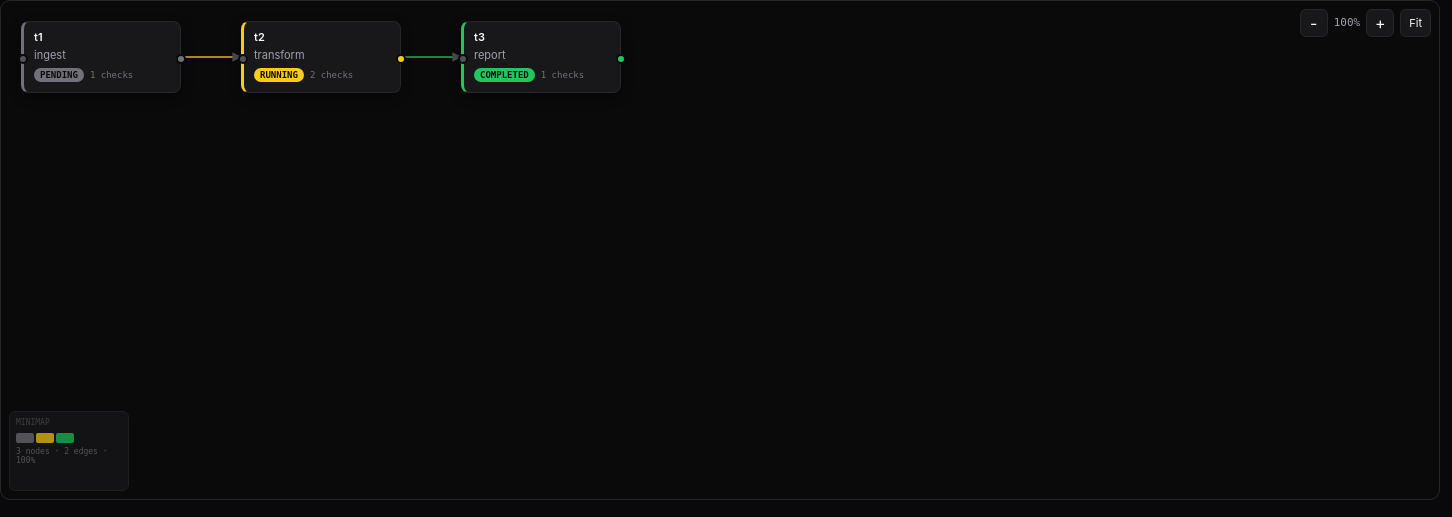
Test: FlowCanvas visual › has minimap zoom/pan controls
Expected: the text "MINIMAP" is shown, [16,418,50,427]
Expected: the button "Fit" is shown, [1400,9,1431,37]
Note: zoom interaction
What coordinates should you click on to do the following:
click the button "+"
I would click on:
 (1380, 23)
Its box is [1366,9,1394,37].
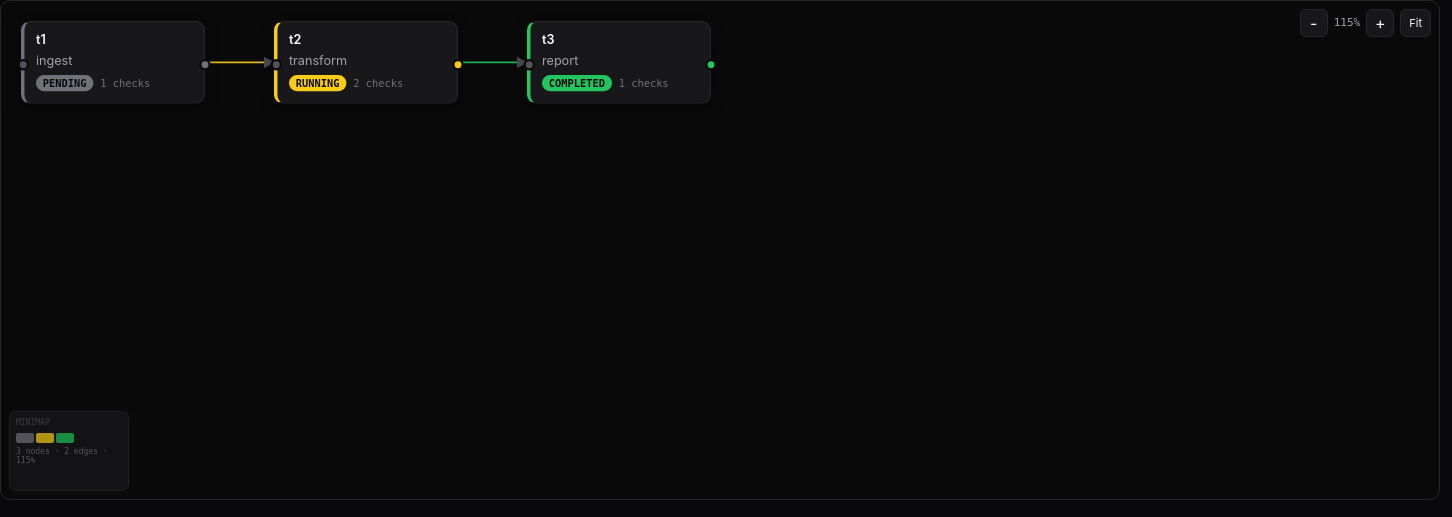
Result: the text "115%" is shown at [1334,16,1360,29]
What coordinates should you click on to do the following:
click the button "-"
I would click on:
 (1314, 23)
Its box is [1300,9,1328,37].
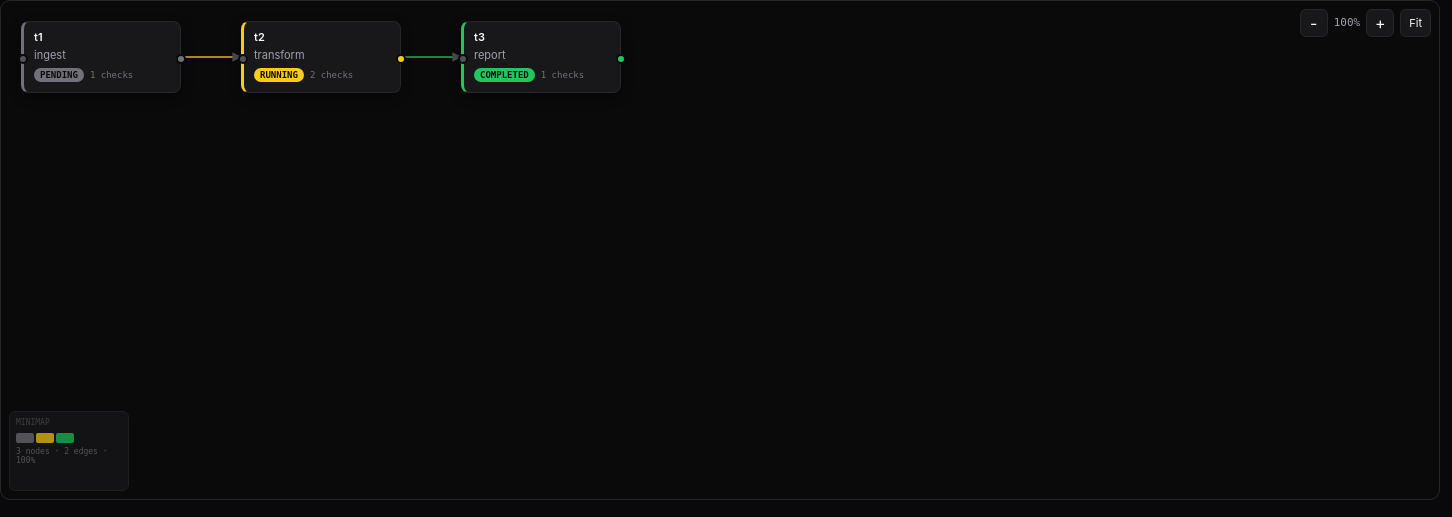
Result: the text "100%" is shown at [1334,16,1360,29]
